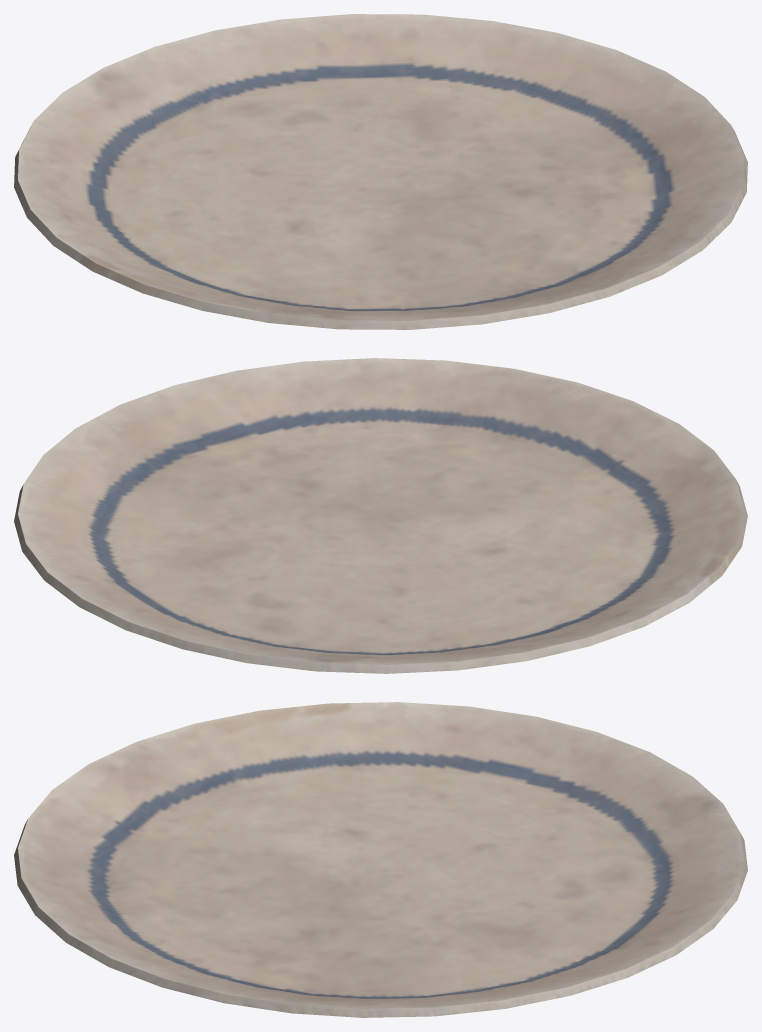
The model's file is SM_Tableware_Plate_01.fbx.
3 renders of one model, top to bottom at view 1: azimuth 30°, elevation 25°; view 2: azimuth 150°, elevation 25°; view 3: azimuth 270°, elevation 25°, orthographic.
Parts seen in each view (by area): view 1: SM_Tableware_Plate_01_LOD0; view 2: SM_Tableware_Plate_01_LOD0; view 3: SM_Tableware_Plate_01_LOD0.
Part boxes in pixels (box(x1,y1,x2,y2)): SM_Tableware_Plate_01_LOD0: box(14, 14, 747, 329); SM_Tableware_Plate_01_LOD0: box(14, 358, 747, 673); SM_Tableware_Plate_01_LOD0: box(14, 702, 747, 1017).
Size of the model in its own units: 31.72 by 31.72 by 1.78.
Materials: 1 (1 with a texture image).
